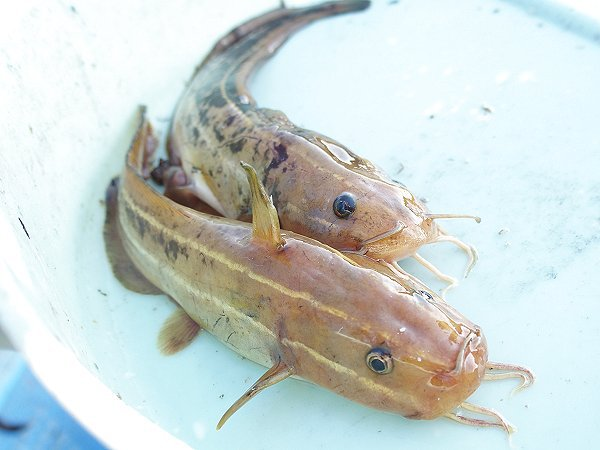gonzui: (58, 191, 542, 431), (160, 3, 475, 261)
